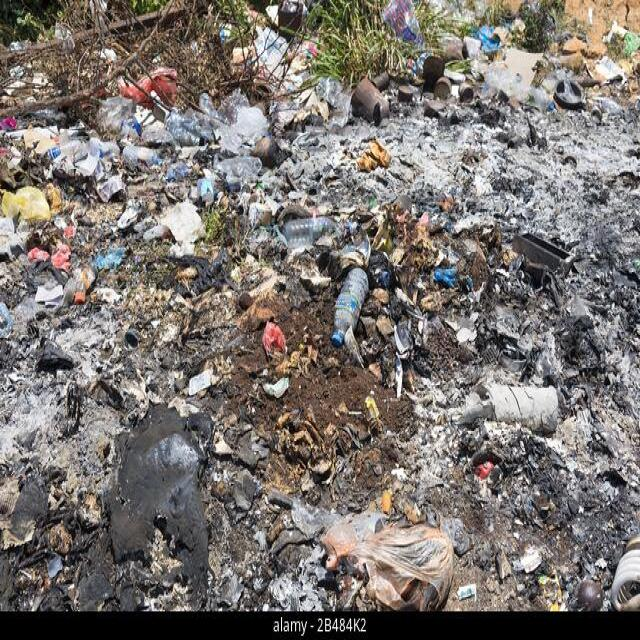plastic: (339, 274, 367, 354)
trash: (11, 2, 635, 264), (17, 332, 237, 614), (300, 466, 588, 614)
